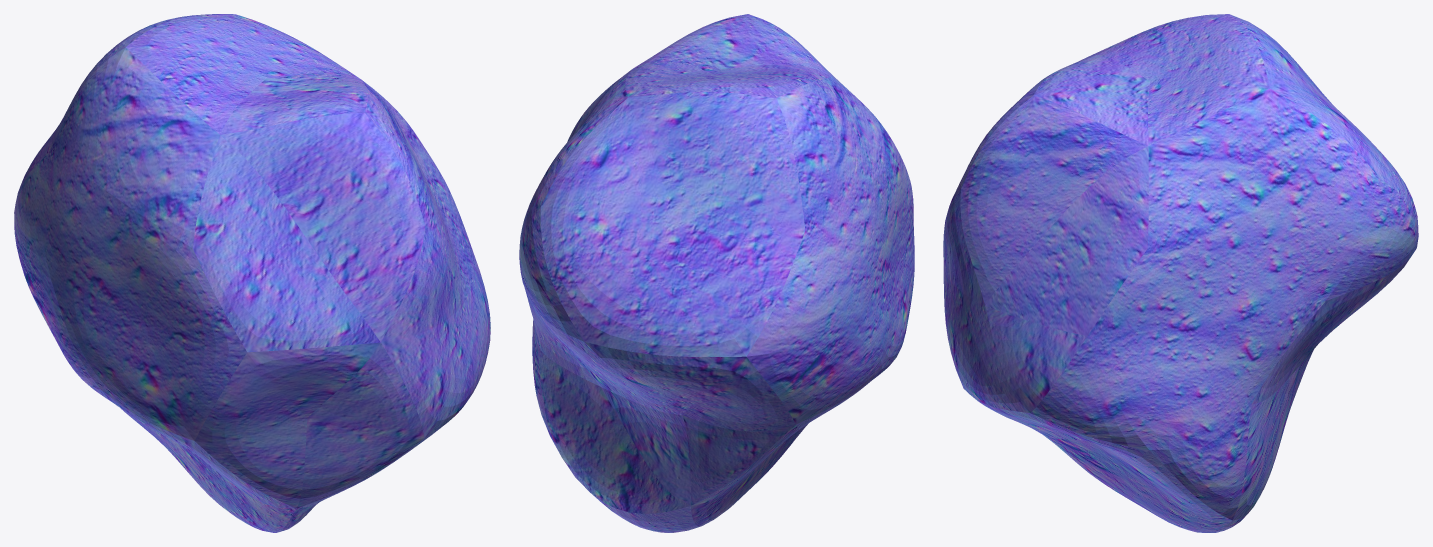
File: mediumasteroid6_LOD1.fbx
The picture shows the model from 3 angles, left to right: view 1: azimuth 30°, elevation 25°; view 2: azimuth 150°, elevation 25°; view 3: azimuth 270°, elevation 25°; orthographic projection. The views are drawn at different scales.
Visible parts, largest first — view 1: Icosphere; view 2: Icosphere; view 3: Icosphere.
Part boxes in pixels (x1=…): Icosphere: x1=14, y1=14, x2=490, y2=532; Icosphere: x1=519, y1=14, x2=914, y2=532; Icosphere: x1=943, y1=14, x2=1418, y2=532.
Size of the model in its own units: 235 by 301 by 282.
